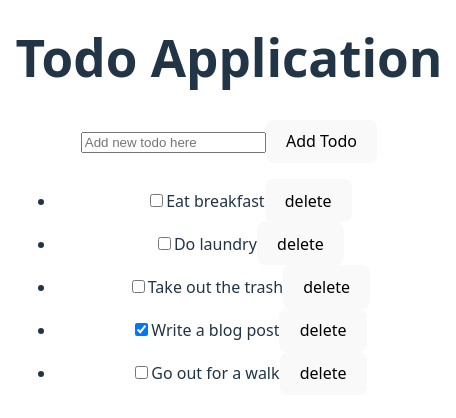
Test case: Todo component › adds a new todo when submitted
Type "Learn TypeScript" into the field with placeholder "Add new todo here".
click(173, 143); type("Learn TypeScript")  # box [81, 132, 266, 154]
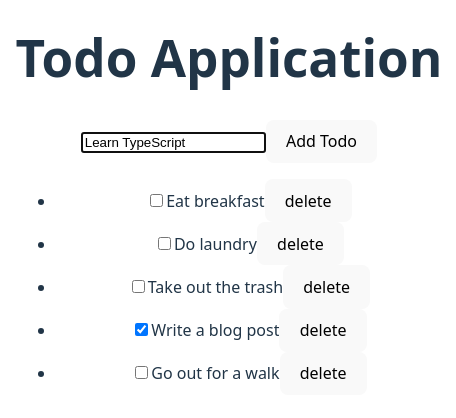
Click the button "Add Todo".
click(322, 142)  # box [266, 120, 377, 163]
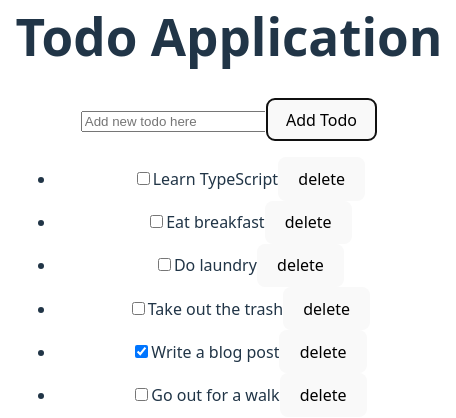
Now the text "Learn TypeScript" is shown, box [133, 168, 278, 190]
